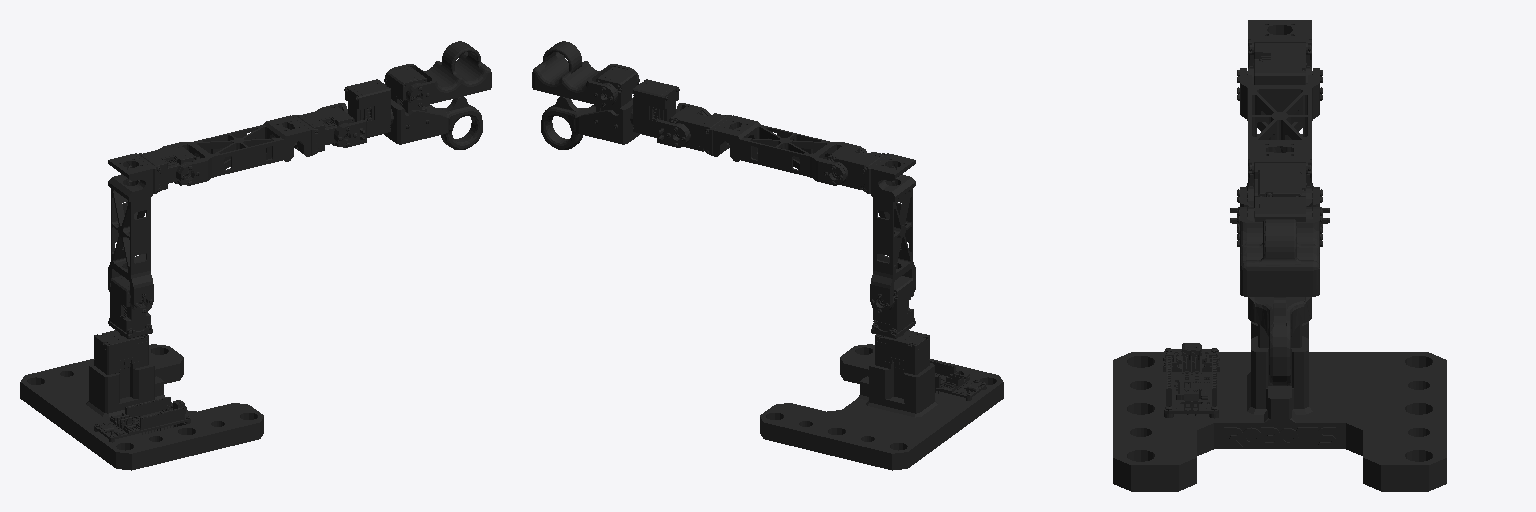
robot.urdf — omx_l:
<?xml version="1.0" ?>
<!-- =================================================================================== -->
<!-- |    This document was autogenerated by xacro from omx_l.urdf.xacro               | -->
<!-- |    EDITING THIS FILE BY HAND IS NOT RECOMMENDED                                 | -->
<!-- =================================================================================== -->
<robot name="omx_l">
  <link name="world"/>
  <joint name="world_fixed" type="fixed">
    <parent link="world"/>
    <child link="link0"/>
    <origin rpy="0 0 0" xyz="0.0 0.0 0.0"/>
  </joint>
  <link name="link0">
    <visual>
      <origin rpy="0 0 0" xyz="0 0 0"/>
      <geometry>
        <mesh filename="package://open_manipulator_description/meshes/omx_l/leader_01_base_roll.stl" scale="0.001 0.001 0.001"/>
      </geometry>
      <material name="grey">
        <color rgba="0.2 0.2 0.2 1"/>
      </material>
    </visual>
    <collision>
      <origin rpy="0 0 0" xyz="0 0 0"/>
      <geometry>
        <mesh filename="package://open_manipulator_description/meshes/omx_l/leader_01_base_roll.stl" scale="0.001 0.001 0.001"/>
      </geometry>
      <material name="grey">
        <color rgba="0.2 0.2 0.2 1"/>
      </material>
    </collision>
    <inertial>
      <origin xyz="-1.238633200e-02 -5.447235500e-03 1.744509700e-02"/>
      <mass value="1.451075000e-01"/>
      <inertia ixx="2.628250300e-04" ixy="-5.614281600e-06" ixz="7.685931300e-06" iyy="1.477645100e-04" iyz="1.937324800e-06" izz="3.204220800e-04"/>
    </inertial>
  </link>
  <joint name="joint1" type="revolute">
    <parent link="link0"/>
    <child link="link1"/>
    <origin rpy="0 0 0" xyz="-0.0095 0 0.0545"/>
    <axis xyz="0 0 1"/>
    <limit effort="1000" lower="-6.283185307179586" upper="6.283185307179586" velocity="4.8"/>
    <dynamics damping="0.05"/>
  </joint>
  <link name="link1">
    <visual>
      <origin rpy="0 0 0" xyz="0 0 0"/>
      <geometry>
        <mesh filename="package://open_manipulator_description/meshes/omx_l/leader_02_base_tilt_revised.stl" scale="0.001 0.001 0.001"/>
      </geometry>
      <material name="grey">
        <color rgba="0.2 0.2 0.2 1"/>
      </material>
    </visual>
    <collision>
      <origin rpy="0 0 0" xyz="0 0 0"/>
      <geometry>
        <mesh filename="package://open_manipulator_description/meshes/omx_l/leader_02_base_tilt_revised.stl" scale="0.001 0.001 0.001"/>
      </geometry>
      <material name="grey">
        <color rgba="0.2 0.2 0.2 1"/>
      </material>
    </collision>
    <inertial>
      <origin xyz="2.835039900e-05 2.751132400e-04 3.128092400e-02"/>
      <mass value="2.527095100e-02"/>
      <inertia ixx="4.407733000e-06" ixy="-5.103192400e-11" ixz="2.755486200e-09" iyy="4.218083500e-06" iyz="-1.016729100e-08" izz="1.868043300e-06"/>
    </inertial>
  </link>
  <joint name="joint2" type="revolute">
    <parent link="link1"/>
    <child link="link2"/>
    <origin rpy="0 0 0" xyz="0 0 0.042"/>
    <axis xyz="0 1 0"/>
    <limit effort="1000" lower="-6.283185307179586" upper="6.283185307179586" velocity="4.8"/>
    <dynamics damping="0.1"/>
  </joint>
  <link name="link2">
    <visual>
      <origin rpy="0 0 0" xyz="0 0 0"/>
      <geometry>
        <mesh filename="package://open_manipulator_description/meshes/omx_l/leader_03_middle_vertical.stl" scale="0.001 0.001 0.001"/>
      </geometry>
      <material name="grey">
        <color rgba="0.2 0.2 0.2 1"/>
      </material>
    </visual>
    <collision>
      <origin rpy="0 0 0" xyz="0 0 0"/>
      <geometry>
        <mesh filename="package://open_manipulator_description/meshes/omx_l/leader_03_middle_vertical.stl" scale="0.001 0.001 0.001"/>
      </geometry>
      <material name="grey">
        <color rgba="0.2 0.2 0.2 1"/>
      </material>
    </collision>
    <inertial>
      <origin xyz="1.424917700e-02 1.724114700e-04 6.876064000e-02"/>
      <mass value="4.770623100e-02"/>
      <inertia ixx="5.756046900e-05" ixy="-7.916400900e-08" ixz="-1.442184500e-05" iyy="6.581561500e-05" iyz="-5.987367400e-08" izz="1.652415800e-05"/>
    </inertial>
  </link>
  <joint name="joint3" type="revolute">
    <parent link="link2"/>
    <child link="link3"/>
    <origin rpy="0 0 0" xyz="0.0375 0 0.09"/>
    <axis xyz="0 1 0"/>
    <limit effort="1000" lower="-6.283185307179586" upper="6.283185307179586" velocity="4.8"/>
    <dynamics damping="0.1"/>
  </joint>
  <link name="link3">
    <visual>
      <origin rpy="0 0 0" xyz="0 0 0"/>
      <geometry>
        <mesh filename="package://open_manipulator_description/meshes/omx_l/leader_04_middle_horizontal.stl" scale="0.001 0.001 0.001"/>
      </geometry>
      <material name="grey">
        <color rgba="0.2 0.2 0.2 1"/>
      </material>
    </visual>
    <collision>
      <origin rpy="0 0 0" xyz="0 0 0"/>
      <geometry>
        <mesh filename="package://open_manipulator_description/meshes/omx_l/leader_04_middle_horizontal.stl" scale="0.001 0.001 0.001"/>
      </geometry>
      <material name="grey">
        <color rgba="0.2 0.2 0.2 1"/>
      </material>
    </collision>
    <inertial>
      <origin xyz="8.282742400e-02 1.724150100e-04 1.823923200e-04"/>
      <mass value="4.770623100e-02"/>
      <inertia ixx="5.604141500e-06" ixy="-1.407750000e-07" ixz="-4.627927600e-08" iyy="9.456674600e-05" iyz="1.755014700e-09" izz="9.723161700e-05"/>
    </inertial>
  </link>
  <joint name="joint4" type="revolute">
    <parent link="link3"/>
    <child link="link4"/>
    <origin rpy="0 0 0" xyz="0.1275 0 0"/>
    <axis xyz="0 1 0"/>
    <limit effort="1000" lower="-6.283185307179586" upper="6.283185307179586" velocity="4.8"/>
    <dynamics damping="0.1"/>
  </joint>
  <link name="link4">
    <visual>
      <origin rpy="0 0 0" xyz="0 0 0"/>
      <geometry>
        <mesh filename="package://open_manipulator_description/meshes/omx_l/leader_05_tip_roll.stl" scale="0.001 0.001 0.001"/>
      </geometry>
      <material name="grey">
        <color rgba="0.2 0.2 0.2 1"/>
      </material>
    </visual>
    <collision>
      <origin rpy="0 0 0" xyz="0 0 0"/>
      <geometry>
        <mesh filename="package://open_manipulator_description/meshes/omx_l/leader_05_tip_roll.stl" scale="0.001 0.001 0.001"/>
      </geometry>
      <material name="grey">
        <color rgba="0.2 0.2 0.2 1"/>
      </material>
    </collision>
    <inertial>
      <origin xyz="2.226281200e-02 6.543368700e-05 5.886435800e-03"/>
      <mass value="3.043181200e-02"/>
      <inertia ixx="5.235858000e-06" ixy="2.348720300e-08" ixz="-9.501811500e-07" iyy="7.464600400e-06" iyz="1.225658100e-09" izz="6.780770900e-06"/>
    </inertial>
  </link>
  <joint name="joint5" type="revolute">
    <parent link="link4"/>
    <child link="link5"/>
    <origin rpy="0 0 0" xyz="0.0287 0 0"/>
    <axis xyz="1 0 0"/>
    <limit effort="1000" lower="-6.283185307179586" upper="6.283185307179586" velocity="4.8"/>
    <dynamics damping="0.1"/>
  </joint>
  <link name="link5">
    <visual>
      <origin rpy="0 0 0" xyz="0 0 0"/>
      <geometry>
        <mesh filename="package://open_manipulator_description/meshes/omx_l/leader_06_tip_pan_revised.stl" scale="0.001 0.001 0.001"/>
      </geometry>
      <material name="grey">
        <color rgba="0.2 0.2 0.2 1"/>
      </material>
    </visual>
    <collision>
      <origin rpy="0 0 0" xyz="0 0 0"/>
      <geometry>
        <mesh filename="package://open_manipulator_description/meshes/omx_l/leader_06_tip_pan_revised.stl" scale="0.001 0.001 0.001"/>
      </geometry>
      <material name="grey">
        <color rgba="0.2 0.2 0.2 1"/>
      </material>
    </collision>
    <inertial>
      <origin xyz="3.612422300e-02 2.809335000e-04 2.357443900e-05"/>
      <mass value="3.962965900e-02"/>
      <inertia ixx="1.056164100e-05" ixy="7.001923500e-08" ixz="6.009266300e-06" iyy="2.169751100e-05" iyz="-9.883190500e-08" izz="1.515746000e-05"/>
    </inertial>
  </link>
  <joint name="gripper_joint_1" type="revolute">
    <parent link="link5"/>
    <child link="link6"/>
    <origin rpy="0 0 0" xyz="0.0298 0 0.0175"/>
    <axis xyz="0 1 0"/>
    <limit effort="1000" lower="-6.283185307179586" upper="6.283185307179586" velocity="4.8"/>
    <dynamics damping="0.1"/>
  </joint>
  <link name="link6">
    <visual>
      <origin rpy="0 0 0" xyz="0 0 0"/>
      <geometry>
        <mesh filename="package://open_manipulator_description/meshes/omx_l/leader_07_tip_grip.stl" scale="0.001 0.001 0.001"/>
      </geometry>
      <material name="grey">
        <color rgba="0.2 0.2 0.2 1"/>
      </material>
    </visual>
    <collision>
      <origin rpy="0 0 0" xyz="0 0 0"/>
      <geometry>
        <mesh filename="package://open_manipulator_description/meshes/omx_l/leader_07_tip_grip.stl" scale="0.001 0.001 0.001"/>
      </geometry>
      <material name="grey">
        <color rgba="0.2 0.2 0.2 1"/>
      </material>
    </collision>
    <inertial>
      <origin xyz="2.848595800e-02 3.991033600e-05 3.499505900e-04"/>
      <mass value="1.961145500e-02"/>
      <inertia ixx="3.344745100e-06" ixy="4.387081200e-08" ixz="-2.497067000e-07" iyy="9.040789400e-06" iyz="-3.092786900e-09" izz="1.102437500e-05"/>
    </inertial>
  </link>
</robot>

--- Facts derived from the render (not from the file) ---
Views: 3 orthographic renders of the robot side by side, from view 1: azimuth 30°, elevation 25°; view 2: azimuth 150°, elevation 25°; view 3: azimuth 270°, elevation 25°.
Model omx_l with 8 links and 7 joints (6 revolute, 1 fixed), rooted at world, posed all joints at 0.
Links seen in each view (by area): view 1: link0, link2, link3, link5, link6, link4, link1; view 2: link0, link2, link3, link5, link6, link4, link1; view 3: link0, link6, link3, link2, link5, link4.
Boxes of the visible links, x1=… form: link0: x1=20, y1=330, x2=263, y2=470; link2: x1=108, y1=145, x2=196, y2=313; link3: x1=158, y1=106, x2=354, y2=185; link5: x1=384, y1=66, x2=482, y2=149; link6: x1=384, y1=41, x2=491, y2=106; link4: x1=317, y1=79, x2=390, y2=147; link1: x1=108, y1=276, x2=152, y2=338; link0: x1=760, y1=330, x2=1003, y2=470; link2: x1=827, y1=145, x2=915, y2=313; link3: x1=669, y1=106, x2=867, y2=185; link5: x1=541, y1=67, x2=639, y2=149; link6: x1=532, y1=41, x2=639, y2=106; link4: x1=633, y1=79, x2=710, y2=147; link1: x1=871, y1=276, x2=915, y2=338; link0: x1=1113, y1=321, x2=1446, y2=491; link6: x1=1237, y1=207, x2=1322, y2=296; link3: x1=1237, y1=68, x2=1322, y2=207; link2: x1=1237, y1=20, x2=1322, y2=246; link5: x1=1248, y1=197, x2=1311, y2=385; link4: x1=1230, y1=169, x2=1329, y2=224.
Bounding box of the posed robot: 0.3332 × 0.15 × 0.2262 m (x, y, z).
7 mesh visuals loaded from 7 distinct referenced files (7 binary STL).